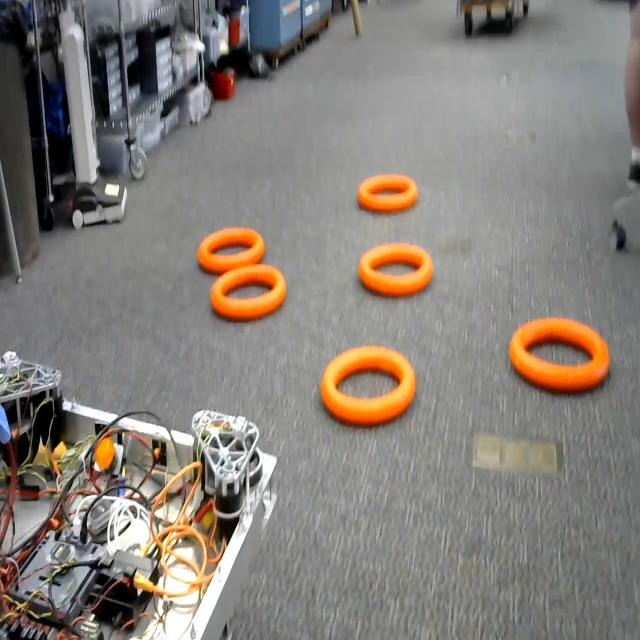note: (319, 340, 422, 428), (508, 314, 614, 395), (355, 244, 438, 300), (212, 272, 289, 320), (356, 168, 422, 215), (194, 227, 268, 268)
